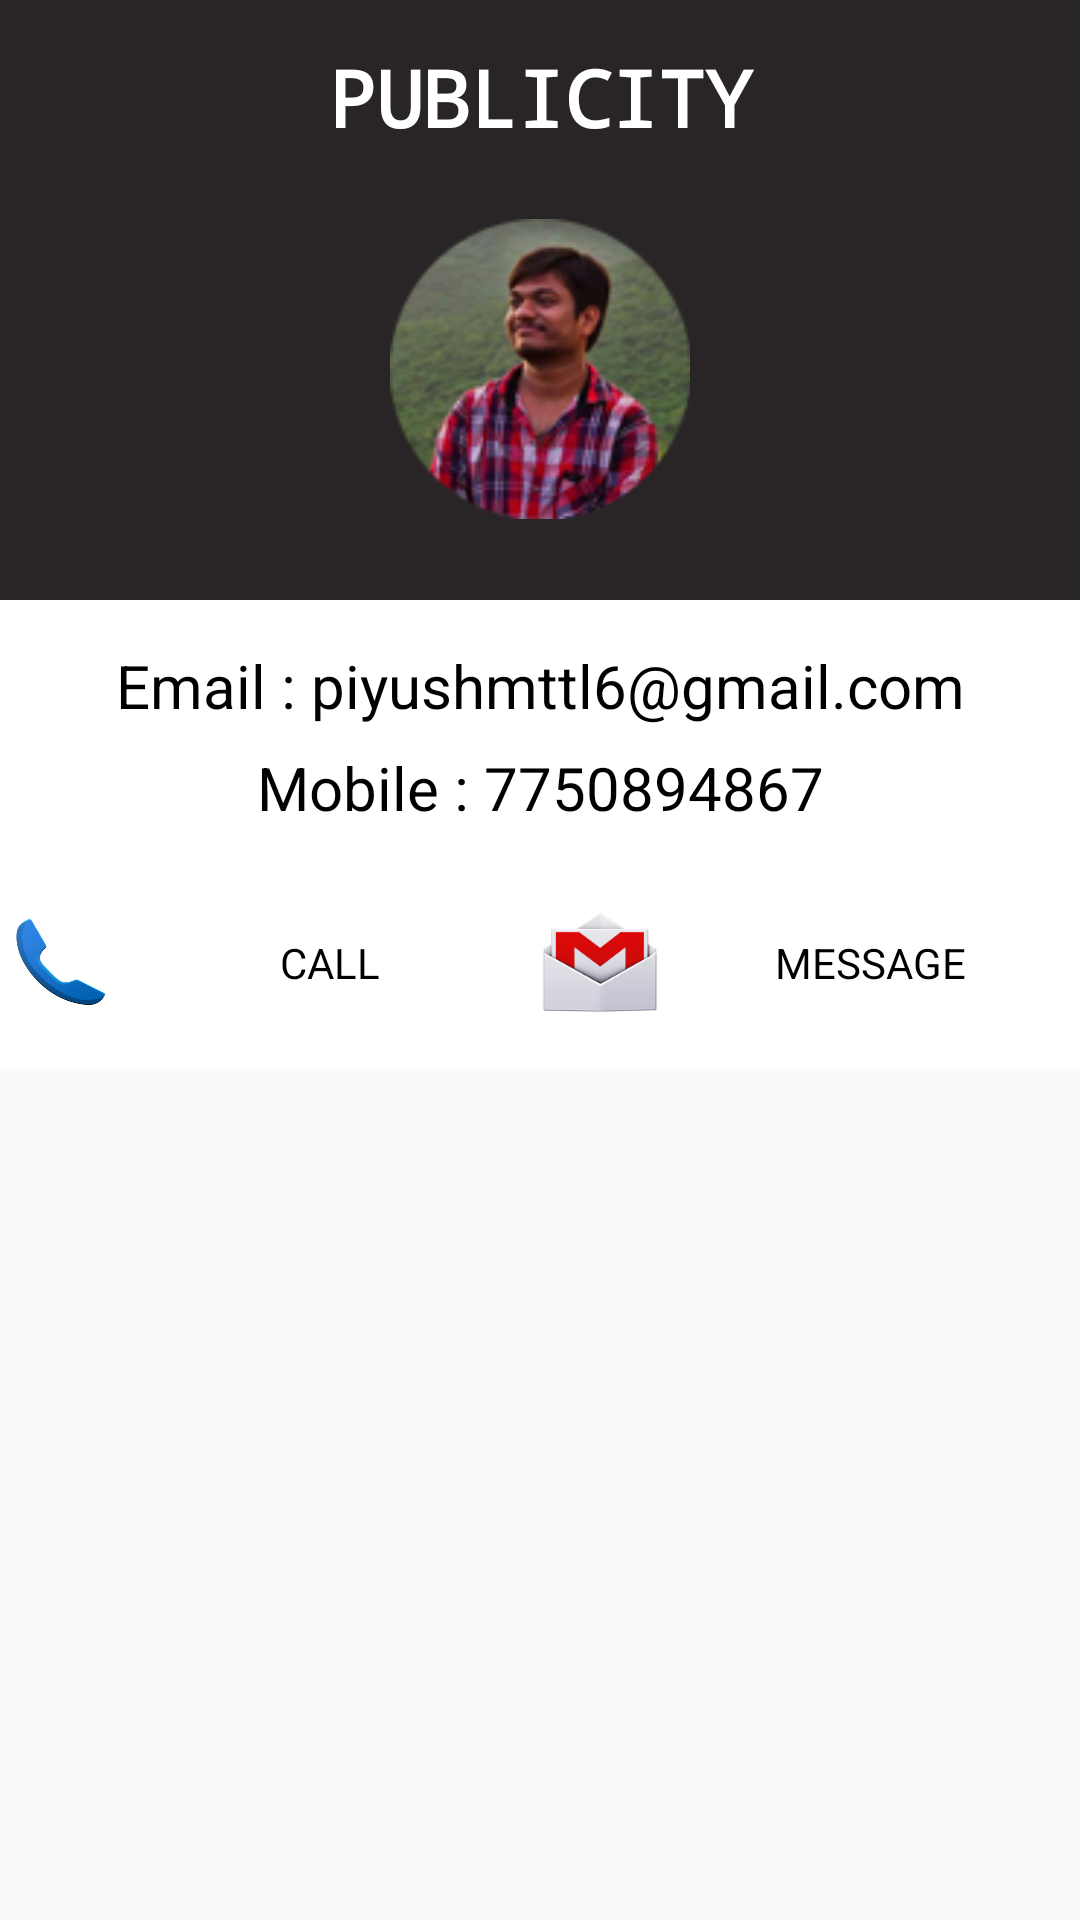

Where to tap for icons on this 1080*1920 app screen, as (x=x, y=y):
contact: (x=60, y=962)
